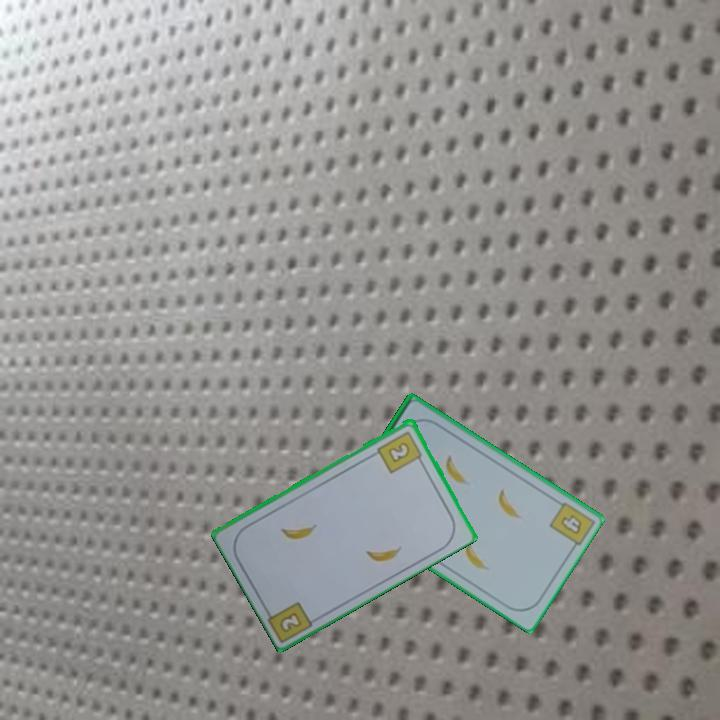2b: (374, 427, 426, 476), (276, 608, 305, 635)
4b: (557, 511, 585, 537)
